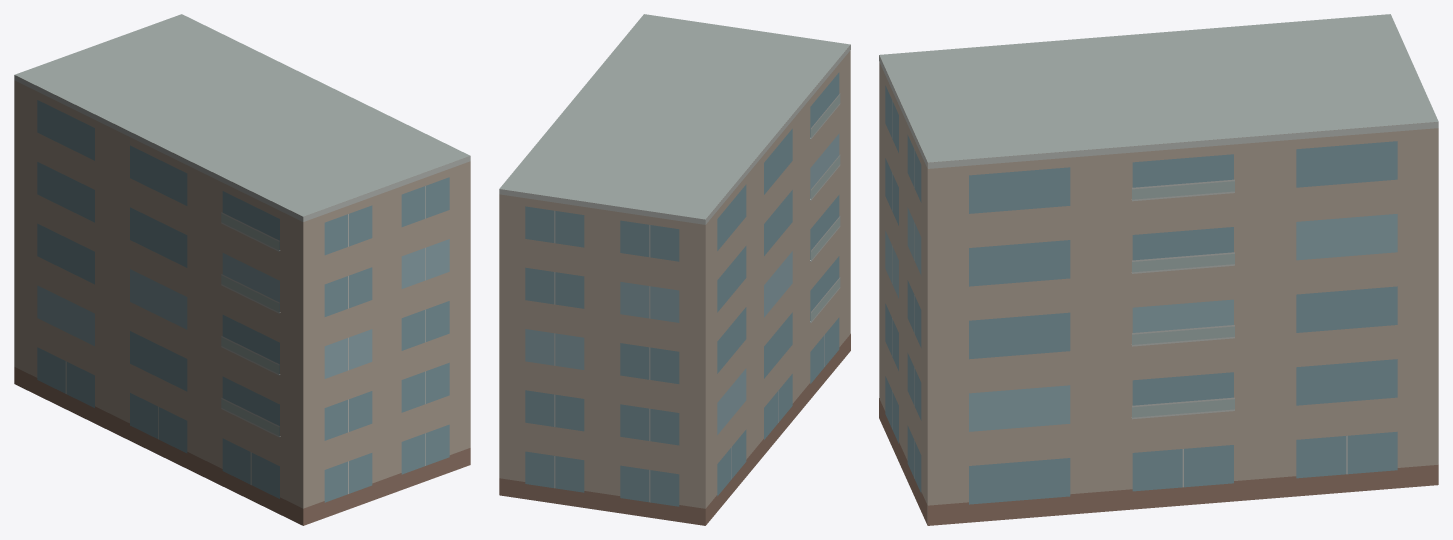
Rendered from survey-upis-32708921.glb.
The picture shows the model from 3 angles, left to right: view 1: azimuth 30°, elevation 25°; view 2: azimuth 150°, elevation 25°; view 3: azimuth 270°, elevation 25°; orthographic projection. The views are drawn at different scales.
Visible parts, largest first — view 1: survey-upis-32708921.tmp; view 2: survey-upis-32708921.tmp; view 3: survey-upis-32708921.tmp.
Part boxes in pixels (left/top/right/bottom): survey-upis-32708921.tmp: left=14, top=14, right=470, bottom=525; survey-upis-32708921.tmp: left=499, top=14, right=850, bottom=525; survey-upis-32708921.tmp: left=879, top=14, right=1438, bottom=525.
Bounding box in the file's own units: 12.18 × 13.87 × 19.37.
